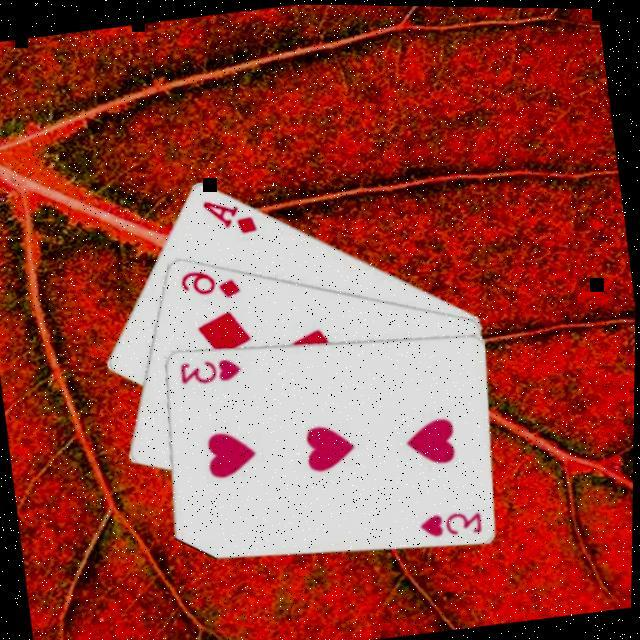3H: (414, 501, 484, 542), (174, 351, 243, 389)
6D: (174, 259, 244, 306)
AD: (196, 188, 260, 241)
